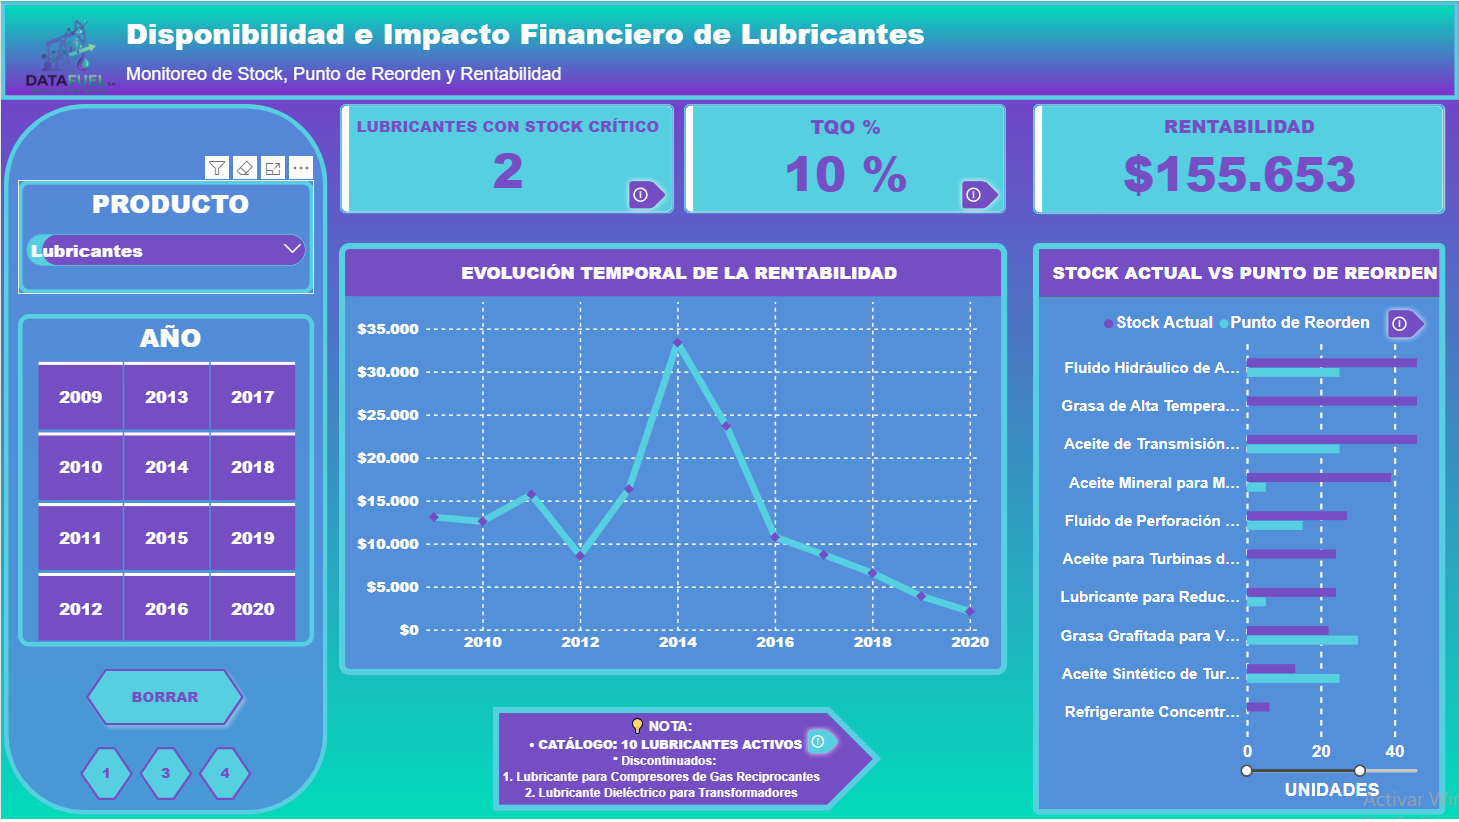

The dashboard page shown, as its layout file describes it:
{"tool":"powerbi","page":{"name":"2","canvas":[1920,1080],"ordinal":1},"visuals":[{"type":"cardVisual","fields":{"Data":["_Medidas.Lubricantes con Stock Crítico"]},"box":[446,136,440,144],"z":0},{"type":"cardVisual","fields":{"Data":["_Medidas.TQO %"]},"box":[900,136,424,144],"z":1000},{"type":"cardVisual","fields":{"Data":["_Medidas.RentabilidadProductosActivos"]},"box":[1359.2,135.3,542.7,145.3],"z":2000},{"type":"shape","box":[4,136,426,936],"z":3000},{"type":"slicer","title":"AÑO","fields":{"Values":["CALENDARIO_GENERAL.Year"]},"box":[22,412,390,438],"z":4000},{"type":"slicer","title":"PRODUCTO","fields":{"Values":["Categorias.NombreCategoria","Productos.Nombre de producto"]},"box":[22,236,390,150],"z":5000},{"type":"image","box":[0,0,1920.1,130.3],"z":6000},{"type":"image","box":[0,0,177.3,150.2],"z":7000},{"type":"textbox","box":[164,16,1366,60],"z":8000},{"type":"textbox","box":[164,82,1196,54],"z":9000},{"type":"lineChart","title":"EVOLUCIÓN TEMPORAL DE LA RENTABILIDAD","fields":{"Category":["CALENDARIO_GENERAL.Year"],"Y":["_Medidas.RentabilidadProductosActivos"]},"box":[445.8,318.9,880,569.4],"z":10000},{"type":"clusteredBarChart","title":"STOCK ACTUAL VS PUNTO DE REORDEN","fields":{"Category":["Productos.Nombre de producto"],"Y":["Sum(Productos.Unidades en existencia)","Sum(Productos.Nivel de nuevo pedido)"]},"box":[1359.2,318.9,542.7,753.1],"z":11000},{"type":"pageNavigator","box":[104,982,226,70],"z":12000},{"type":"actionButton","box":[103.2,870.4,226.2,92.3],"z":13000},{"type":"actionButton","box":[1257.7,229.8,65.1,52.5],"z":14000},{"type":"actionButton","box":[819.8,229.8,65.1,52.5],"z":15000},{"type":"actionButton","box":[1818.4,399.1,65.1,52.5],"z":16000},{"type":"shape","box":[648.3,930,511.7,136.7],"z":17000},{"type":"textbox","box":[591.7,941.7,556.7,125],"z":18000},{"type":"actionButton","box":[1055,951.7,56.6,46.1],"z":19000}]}

Visuals, with their boxes in screenshot pixels (x1, y1, x2, y2), scaled from the page's 1920x1080 canvas onto the 1459x822 screenshot:
cardVisual - _Medidas.Lubricantes con Stock Crítico: {"left": 339, "top": 104, "right": 673, "bottom": 213}
cardVisual - _Medidas.TQO %: {"left": 684, "top": 104, "right": 1006, "bottom": 213}
cardVisual - _Medidas.RentabilidadProductosActivos: {"left": 1033, "top": 103, "right": 1445, "bottom": 214}
shape: {"left": 3, "top": 104, "right": 327, "bottom": 816}
"AÑO" slicer: {"left": 17, "top": 314, "right": 313, "bottom": 647}
"PRODUCTO" slicer: {"left": 17, "top": 180, "right": 313, "bottom": 294}
image: {"left": 0, "top": 0, "right": 1458, "bottom": 99}
image: {"left": 0, "top": 0, "right": 135, "bottom": 114}
textbox: {"left": 125, "top": 12, "right": 1163, "bottom": 58}
textbox: {"left": 125, "top": 62, "right": 1033, "bottom": 104}
"EVOLUCIÓN TEMPORAL DE LA RENTABILIDAD" lineChart: {"left": 339, "top": 243, "right": 1007, "bottom": 676}
"STOCK ACTUAL VS PUNTO DE REORDEN" clusteredBarChart: {"left": 1033, "top": 243, "right": 1445, "bottom": 816}
pageNavigator: {"left": 79, "top": 747, "right": 251, "bottom": 801}
actionButton: {"left": 78, "top": 662, "right": 250, "bottom": 733}
actionButton: {"left": 956, "top": 175, "right": 1005, "bottom": 215}
actionButton: {"left": 623, "top": 175, "right": 672, "bottom": 215}
actionButton: {"left": 1382, "top": 304, "right": 1431, "bottom": 344}
shape: {"left": 493, "top": 708, "right": 881, "bottom": 812}
textbox: {"left": 450, "top": 717, "right": 873, "bottom": 812}
actionButton: {"left": 802, "top": 724, "right": 845, "bottom": 759}
